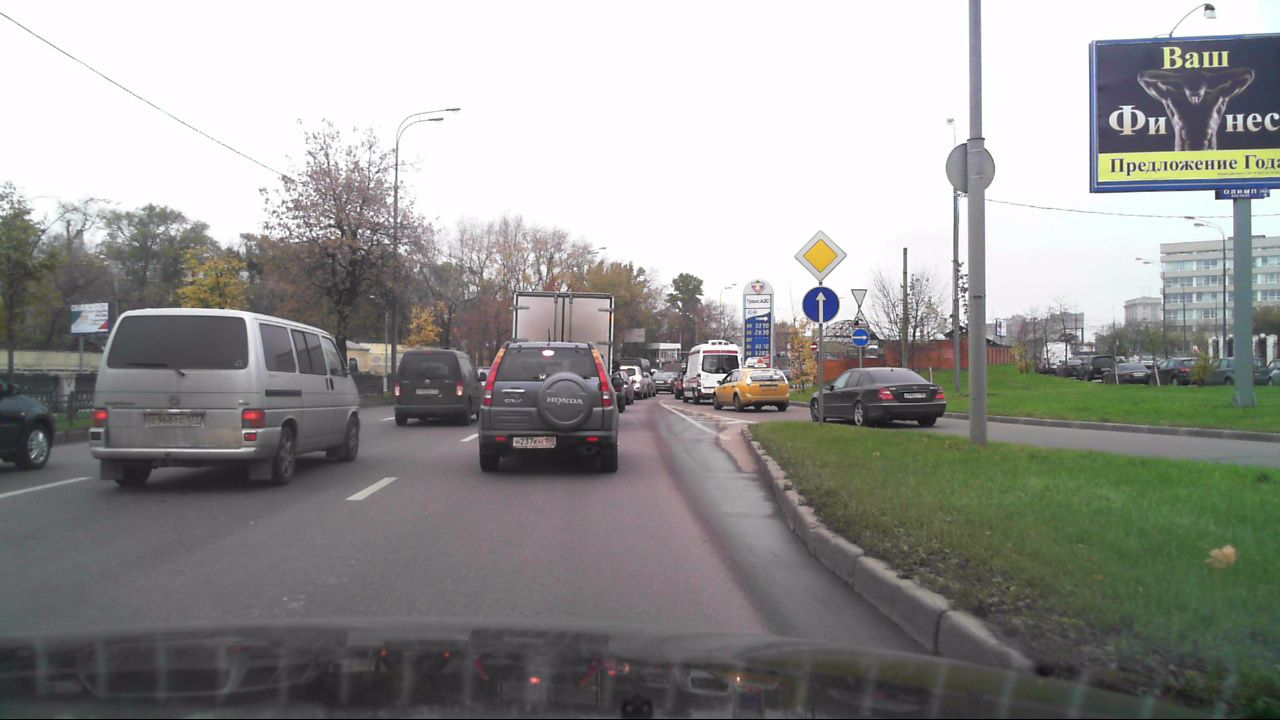Turn Right: (852, 328, 869, 347)
